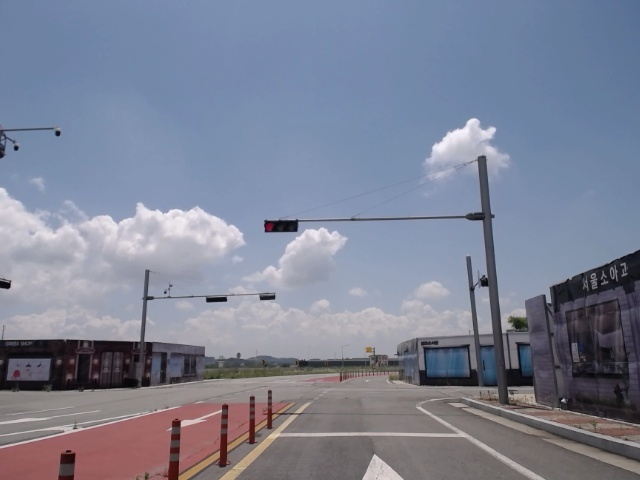red_3: (262, 218, 300, 235)
